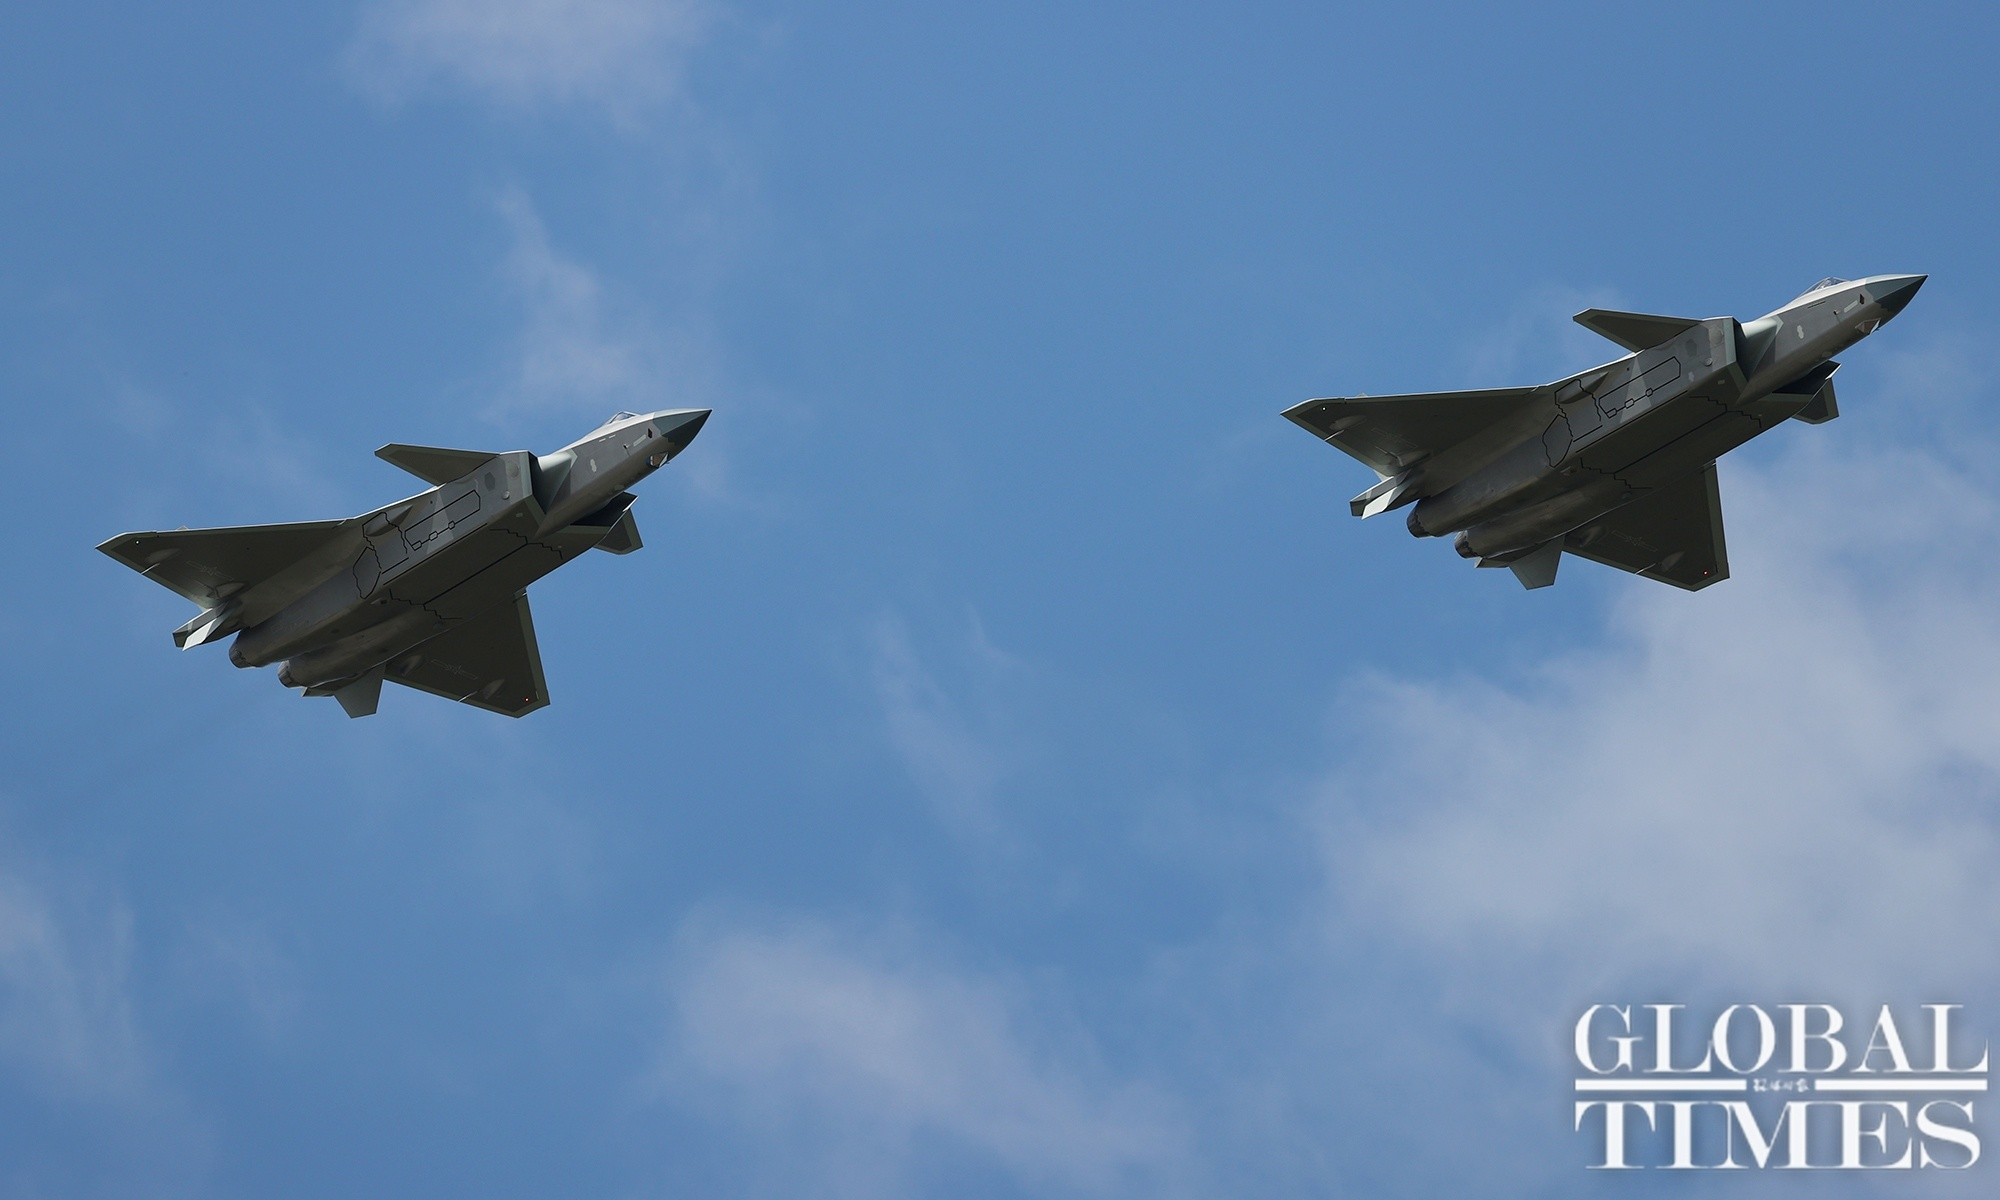J20: (1277, 273, 1930, 593), (93, 407, 713, 719)
